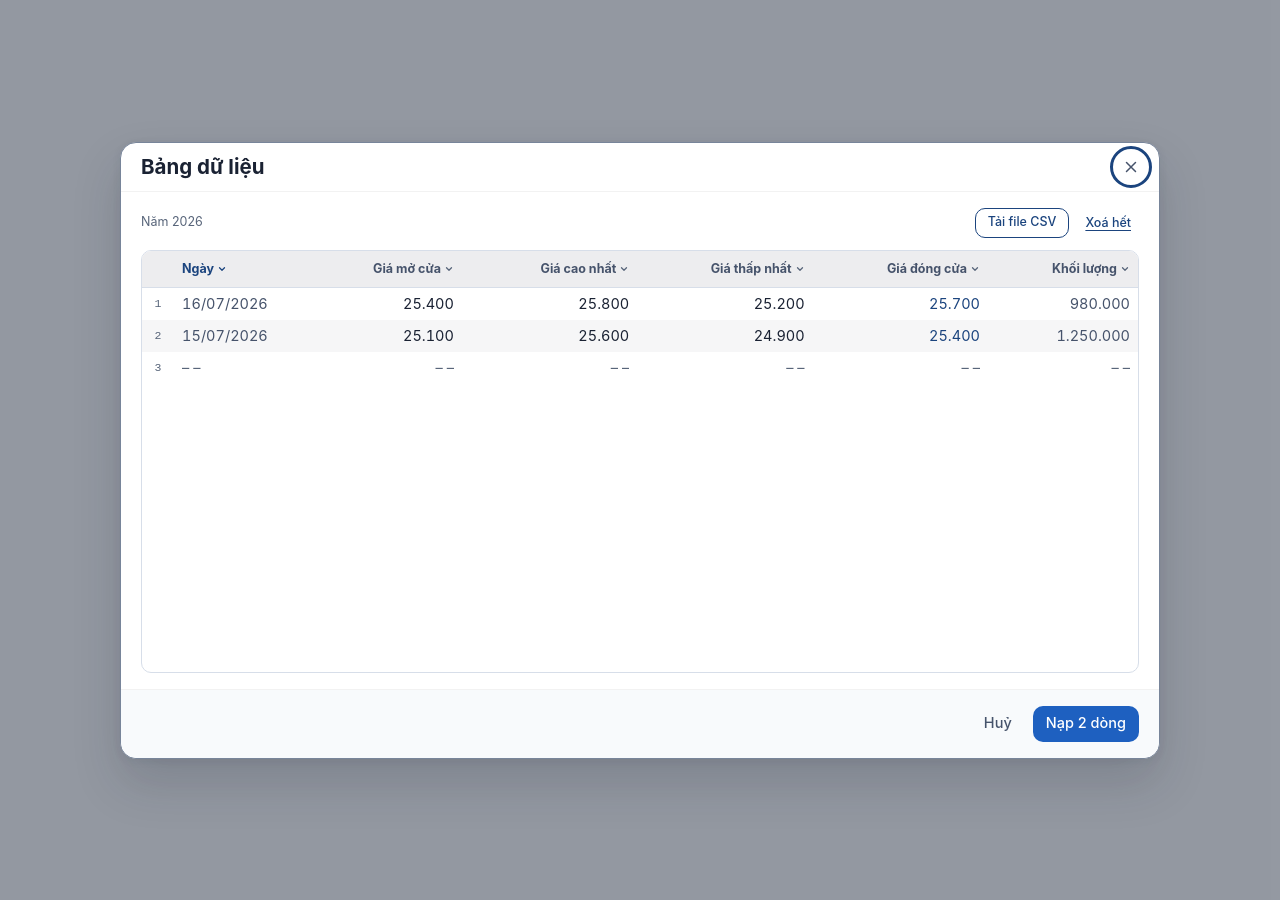
Test: PasteImportSheet — WF-11 › Xoá hết vẫn xoá được, hiệu ứng đổ chuỗi cũ không ghi đè lại
Click the button "Xoá hết" at (1108, 222), box [1077, 208, 1139, 238]
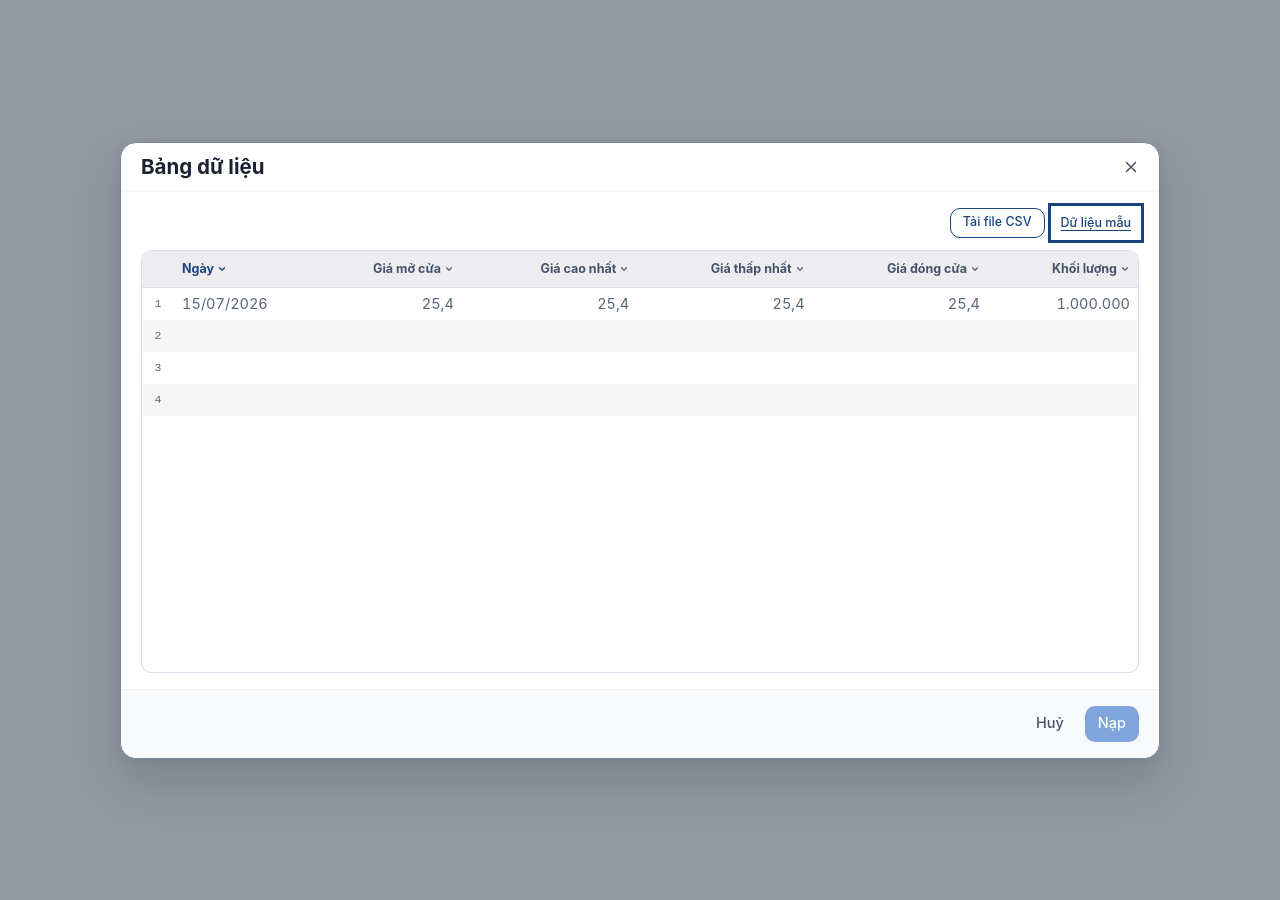
Now the field named "Ngày, Dòng 1" is empty, box [174, 288, 312, 320]
Now the button "Nạp" is disabled, box [1085, 706, 1139, 742]
